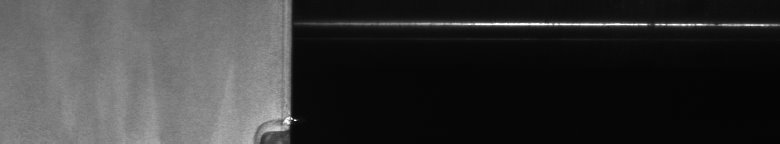hb: (248, 111, 280, 136)
